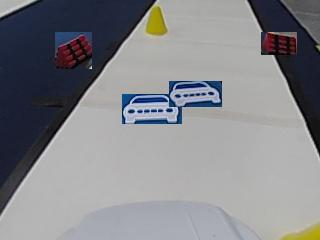cone: (145, 7, 167, 34)
